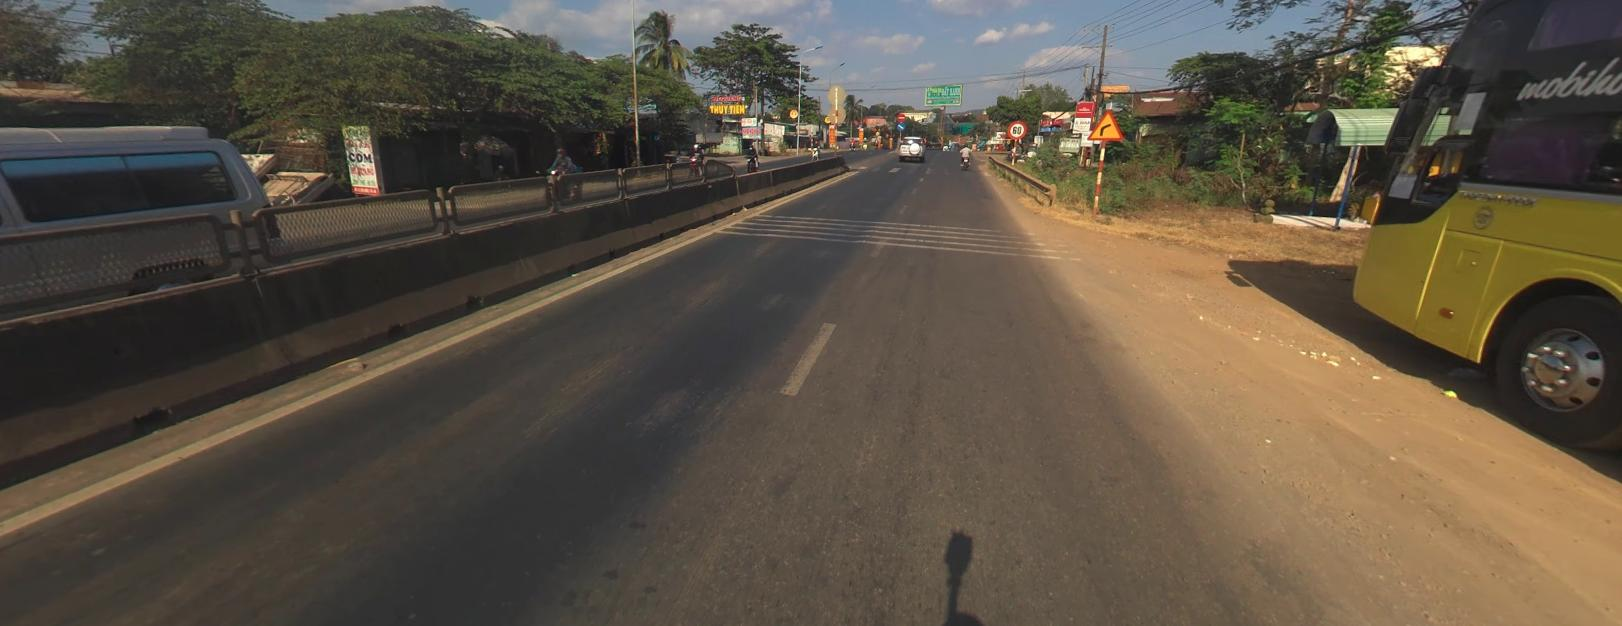Cam nguoc chieu: (896, 112, 904, 120)
Gioi han toc do: (1007, 120, 1026, 137)
Hieu lenh: (896, 121, 904, 129)
Nguy hiem: (1085, 108, 1122, 140)
